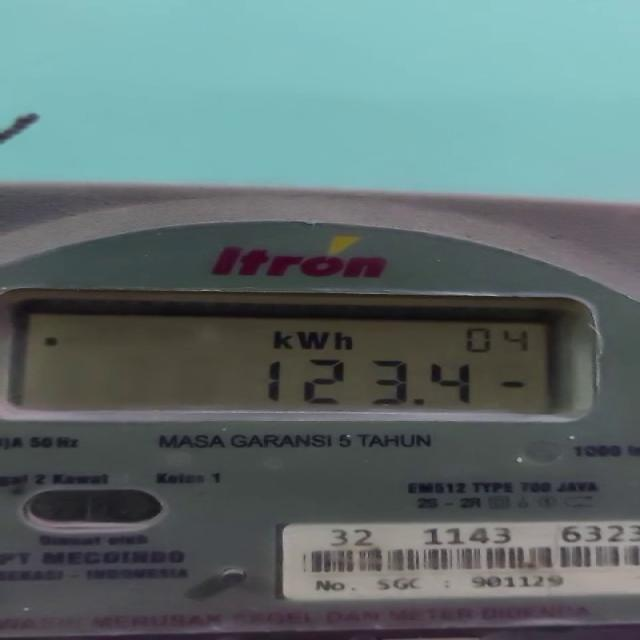LCD: (9, 289, 590, 421)
